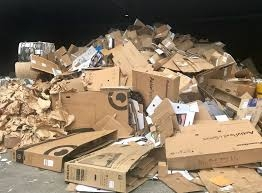paper: (150, 112, 262, 169), (7, 126, 122, 180), (54, 85, 154, 140), (59, 140, 162, 193), (127, 66, 182, 147), (103, 37, 155, 79), (160, 43, 213, 78), (201, 76, 257, 108), (80, 63, 132, 91), (25, 54, 73, 80), (27, 94, 53, 116)
